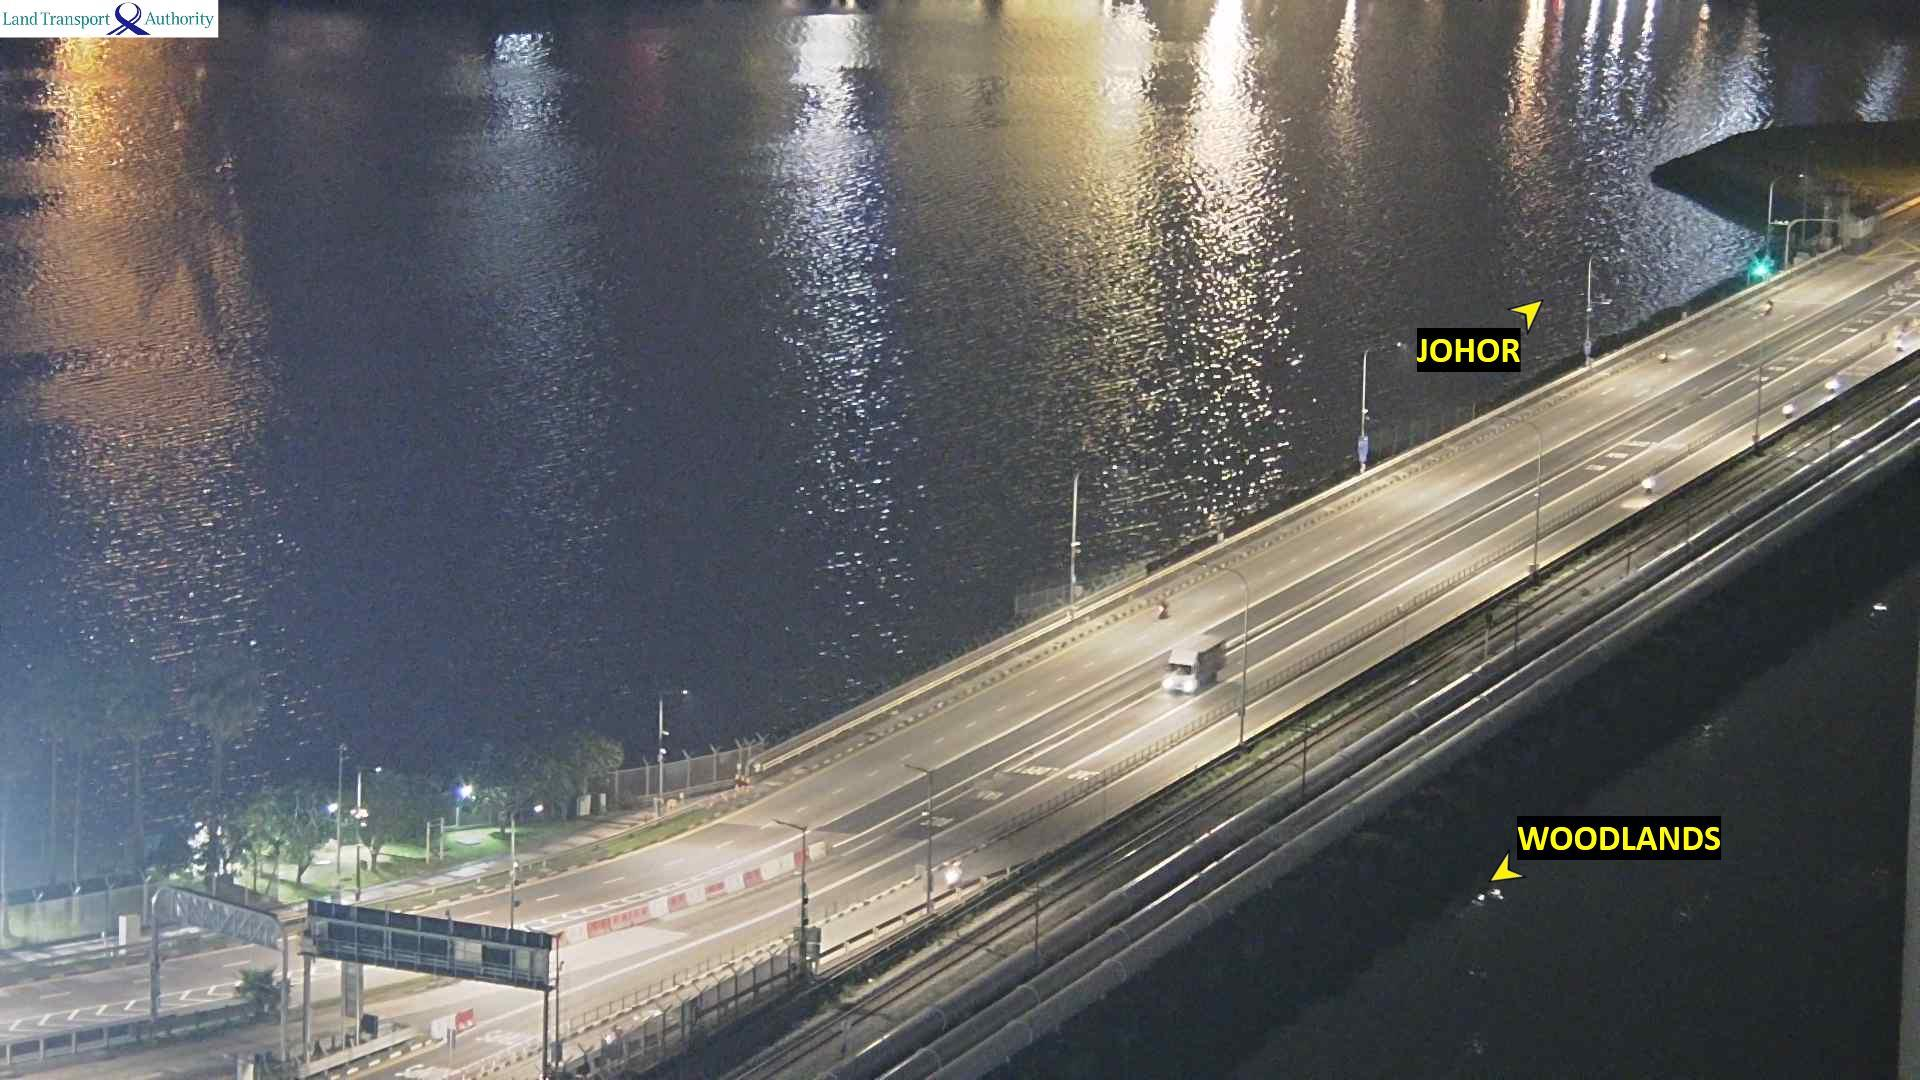vehicle-causeway-johor: (1155, 597, 1167, 617), (1763, 297, 1772, 317), (1657, 350, 1667, 363)
vehicle-causeway-singapore: (1160, 634, 1225, 694), (944, 858, 961, 885), (1893, 332, 1905, 354), (1826, 378, 1841, 395), (1643, 474, 1654, 494), (1784, 403, 1793, 421)
